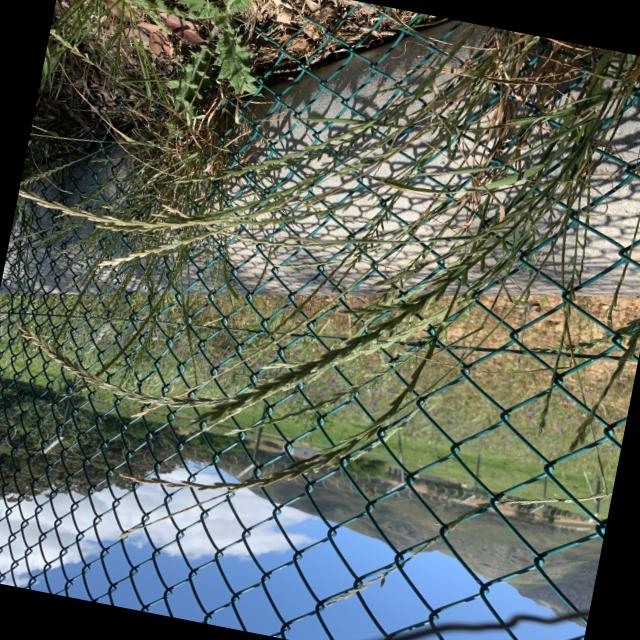Lolium: (179, 0, 632, 496), (68, 203, 466, 551), (24, 73, 442, 300), (18, 336, 234, 422)
